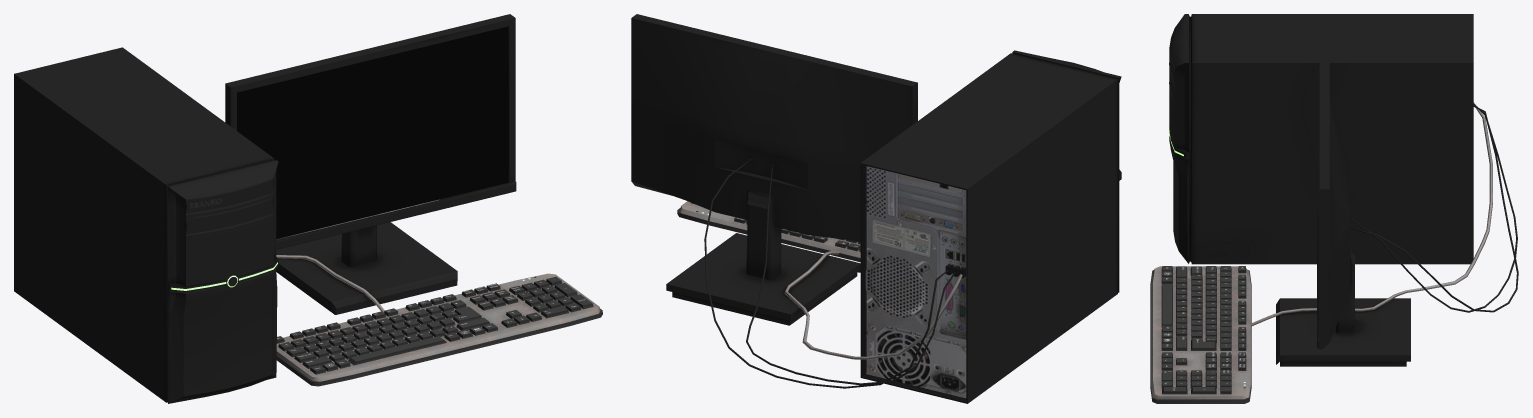
File: ModernPC.glb
The picture shows the model from 3 angles, left to right: view 1: azimuth 30°, elevation 25°; view 2: azimuth 150°, elevation 25°; view 3: azimuth 270°, elevation 25°; orthographic projection. The views are drawn at different scales.
Visible parts, largest first — view 1: Cube; view 2: Cube; view 3: Cube.
Part boxes in pixels (left/top/right/bottom): Cube: left=14, top=14, right=602, bottom=403; Cube: left=631, top=14, right=1121, bottom=403; Cube: left=1150, top=14, right=1518, bottom=403.
Size of the model in its own units: 1.36 by 0.7227 by 1.12.
Materials: 4 (2 with a texture image).
